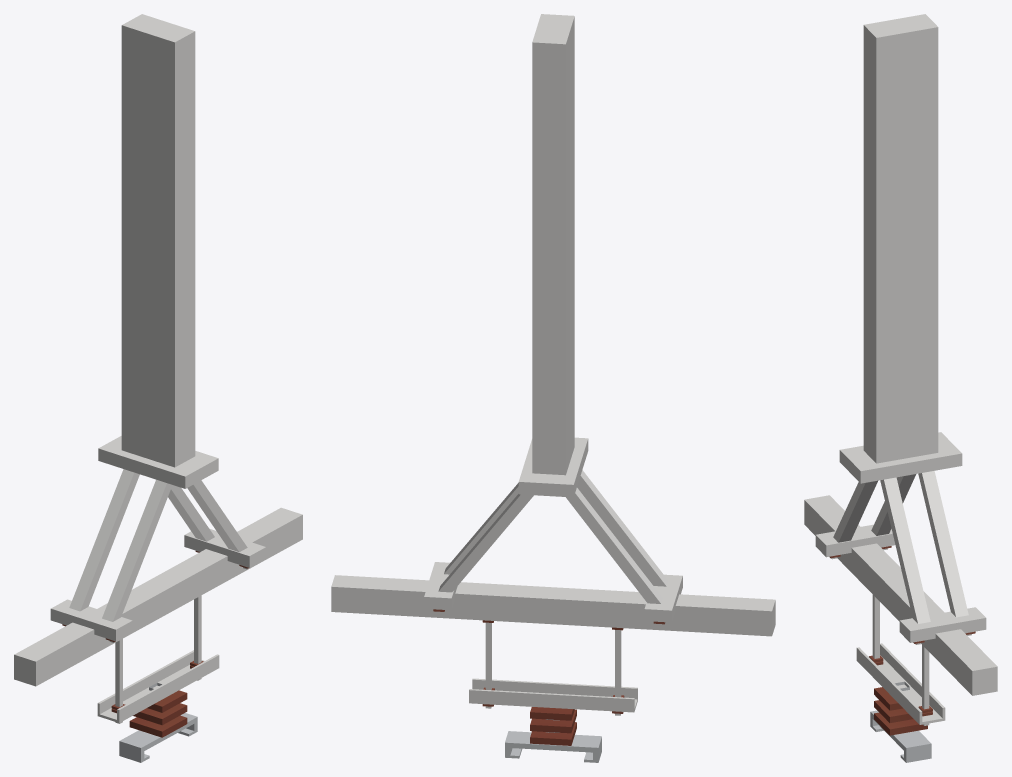
Rendered from catenary_rigid_end_p_l.obj.
3 views of the same model, side by side, from view 1: azimuth 30°, elevation 25°; view 2: azimuth 150°, elevation 25°; view 3: azimuth 270°, elevation 25° (orthographic).
Visible parts, largest first — view 1: rigid_catenary_node.002; view 2: rigid_catenary_node.002; view 3: rigid_catenary_node.002.
Boxes of the visible parts, box(x1,y1,x2,y2) form: rigid_catenary_node.002: box(14, 14, 302, 762); rigid_catenary_node.002: box(331, 14, 775, 762); rigid_catenary_node.002: box(804, 14, 997, 762).
Size of the model in its own units: 0.9478 by 1.8 by 0.4404.
1 material, 1 textured.
